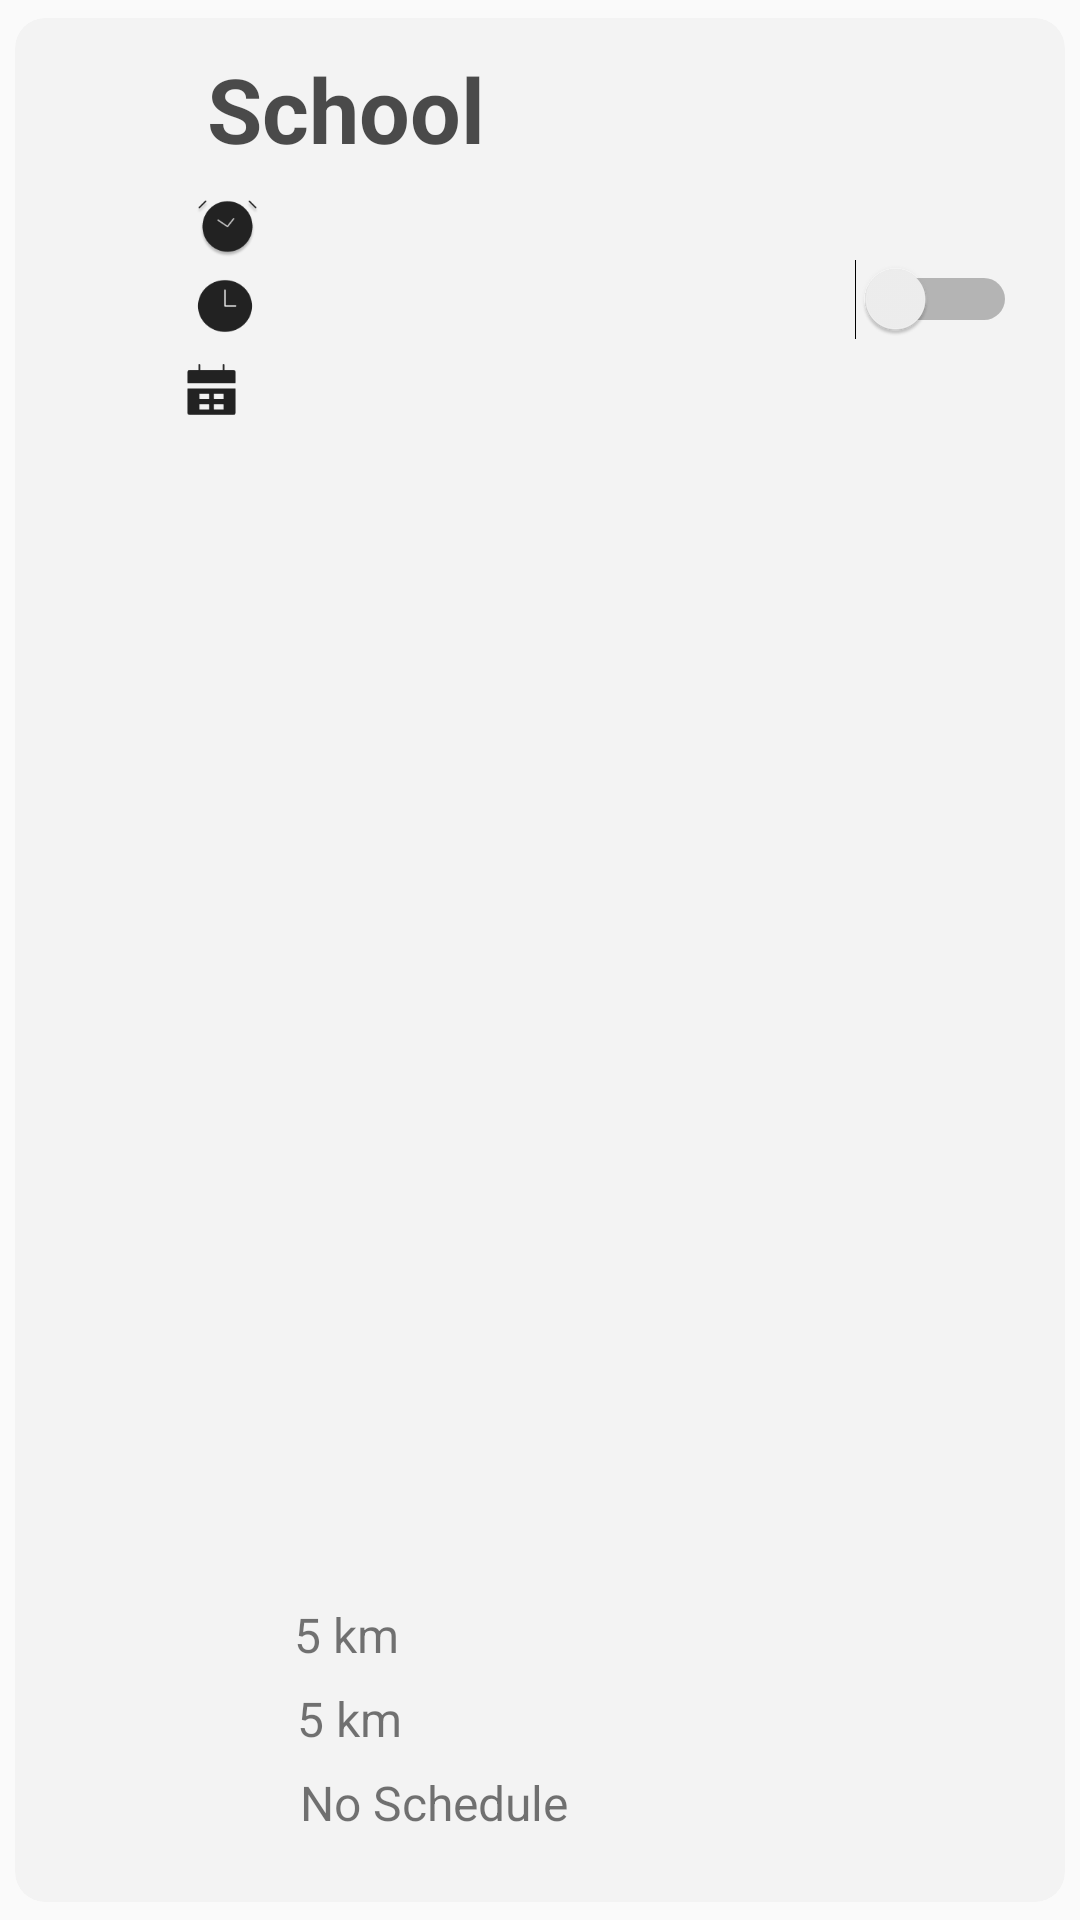

Where icons sit on this 1080px×1920px app screen, as (x1, y1, x2, y2):
alarm: (198, 200, 257, 255)
calendar: (187, 364, 236, 415)
clock: (198, 280, 252, 332)
